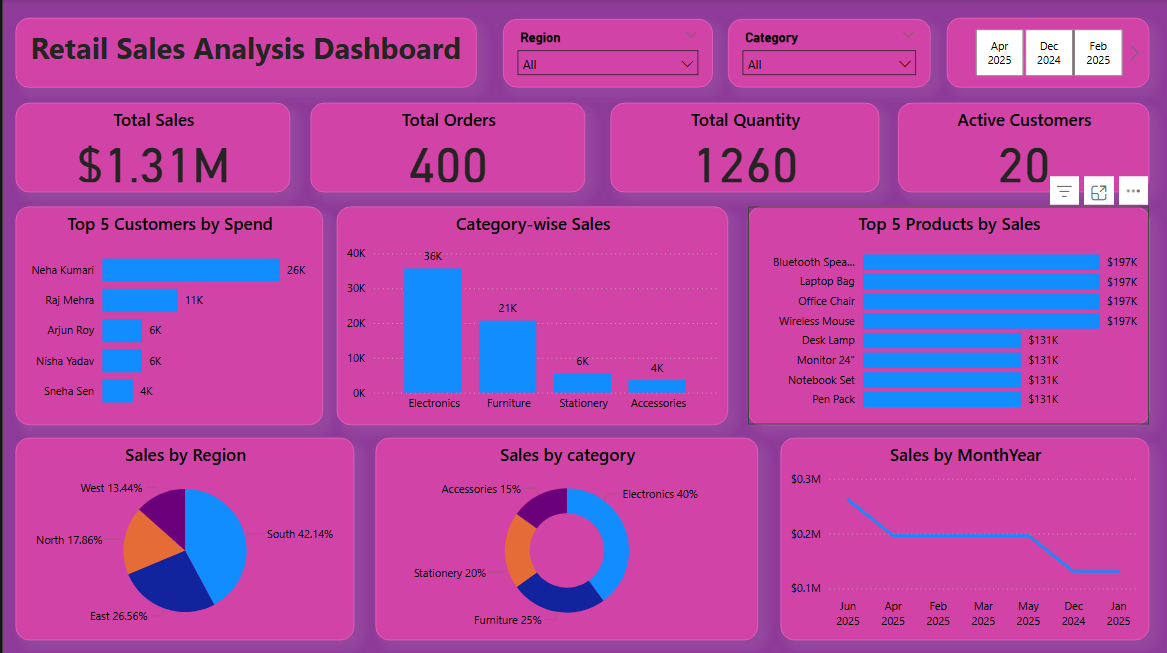

The page's visual inventory and layout, read from the dashboard file:
{"tool":"powerbi","page":{"name":"Page 1","canvas":[1280,720],"ordinal":0},"visuals":[{"type":"barChart","title":"Top 5 Customers by Spend","fields":{"Category":["Customers.customer_name"],"Y":["Customers.TotalSpend"]},"box":[13.7,227.8,337.6,240.1],"z":0},{"type":"pieChart","title":"Sales by Region","fields":{"Y":["Customers.TotalSpend"],"Category":["Customers.region"]},"box":[13.7,481.6,371.9,222.3],"z":1000},{"type":"clusteredColumnChart","title":"Category-wise Sales","fields":{"Category":["Products.category"],"Y":["Customers.TotalSpend"]},"box":[366.4,227.8,429.5,240.1],"z":2000},{"type":"slicer","fields":{"Values":["Customers.region"]},"box":[548.9,22,230.5,75.5],"z":3000},{"type":"slicer","fields":{"Values":["Products.category"]},"box":[795.9,22,222.3,75.5],"z":4000},{"type":"textbox","box":[13.7,20.6,506.3,76.8],"z":5000},{"type":"slicer","fields":{"Values":["Date.MonthYear"]},"box":[1036,20.6,222.3,76.8],"z":6000},{"type":"card","title":"Total Sales","fields":{"Values":["Sum(Orders.Total Sales)"]},"box":[13.7,113.9,301.9,98.8],"z":7000},{"type":"card","title":"Total Orders","fields":{"Values":["Sum(Orders.Total Orders)"]},"box":[337.6,113.9,301.9,98.8],"z":7001},{"type":"card","title":"Total Quantity","fields":{"Values":["Sum(Orders.Total Quantity)"]},"box":[666.9,113.9,295,98.8],"z":7002},{"type":"card","title":"Active Customers","fields":{"Values":["CountNonNull(Orders.Active Customers)"]},"box":[982.5,113.9,275.8,98.8],"z":7003},{"type":"lineChart","title":"Sales by MonthYear","fields":{"Category":["Date.MonthYear"],"Y":["Sum(Orders.Total Sales)"]},"box":[853.5,481.6,404.8,222.3],"z":7004},{"type":"barChart","title":"Top 5 Products by Sales","fields":{"Category":["Products.product_name"],"Y":["Sum(Orders.Total Sales)"]},"box":[817.8,227.8,440.5,240.1],"z":7005},{"type":"donutChart","title":"Sales by category","fields":{"Category":["Products.category"],"Y":["Sum(Orders.Total Sales)"]},"box":[408.9,481.6,419.9,222.3],"z":7006}]}

Visuals, with their boxes in screenshot pixels (x1, y1, x2, y2), scaled from the page's 1280x720 canvas onto the 1167x653 screenshot:
"Top 5 Customers by Spend" barChart: 12/207/320/424
"Sales by Region" pieChart: 12/437/352/638
"Category-wise Sales" clusteredColumnChart: 334/207/726/424
slicer - Customers.region: 500/20/711/88
slicer - Products.category: 726/20/928/88
textbox: 12/19/474/88
slicer - Date.MonthYear: 945/19/1147/88
"Total Sales" card: 12/103/288/193
"Total Orders" card: 308/103/583/193
"Total Quantity" card: 608/103/877/193
"Active Customers" card: 896/103/1147/193
"Sales by MonthYear" lineChart: 778/437/1147/638
"Top 5 Products by Sales" barChart: 746/207/1147/424
"Sales by category" donutChart: 373/437/756/638
